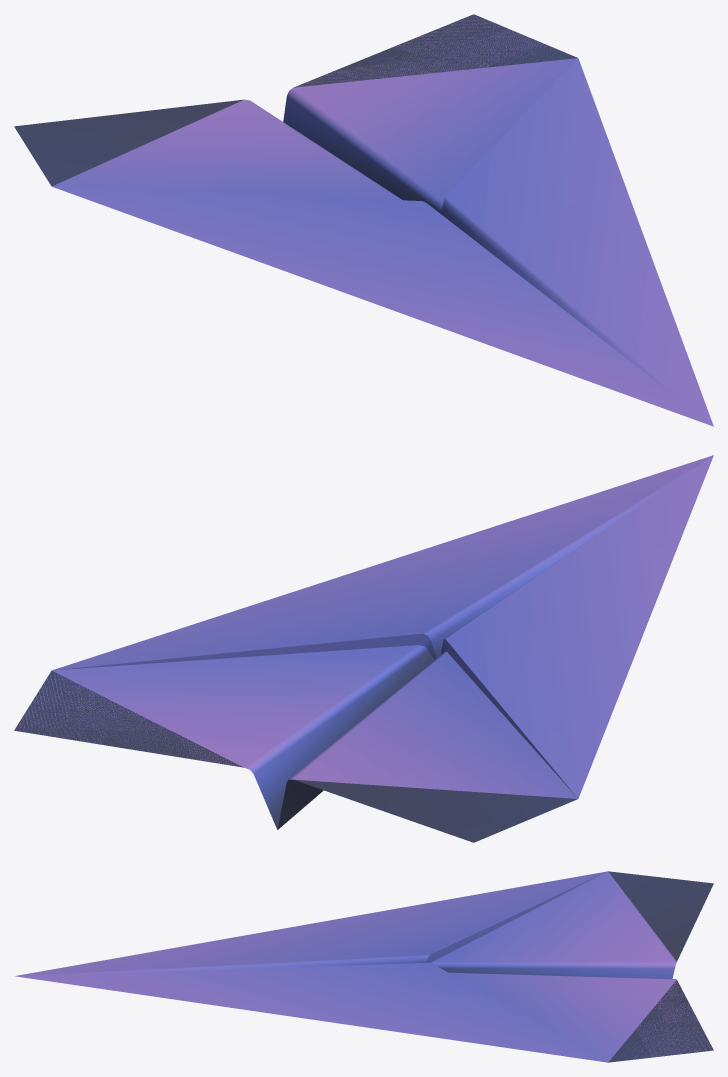
Rendered from PaperPlane.obj.
3 renders of one model, top to bottom at view 1: azimuth 30°, elevation 25°; view 2: azimuth 150°, elevation 25°; view 3: azimuth 270°, elevation 25°, orthographic. The views are drawn at different scales.
Parts seen in each view (by area): view 1: PaperPlane.001; view 2: PaperPlane.001; view 3: PaperPlane.001.
Boxes of the visible parts, x1,y1,x2,y2 form: PaperPlane.001: (14, 14, 713, 426); PaperPlane.001: (14, 455, 713, 842); PaperPlane.001: (14, 871, 713, 1062).
Bounding box in the file's own units: 0.3741 × 0.0538 × 0.5781.
1 material, 1 textured.
